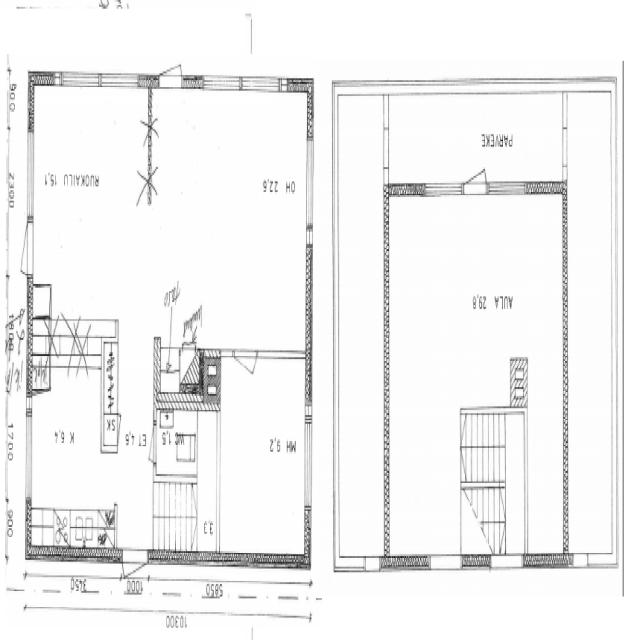door: (461, 162, 490, 200), (232, 345, 260, 383), (157, 58, 184, 94), (20, 219, 36, 279)
window: (302, 128, 318, 245), (301, 404, 315, 516), (256, 338, 306, 368), (23, 397, 35, 512), (120, 548, 151, 592), (24, 125, 37, 226), (239, 68, 282, 98), (56, 65, 100, 93), (422, 176, 464, 204), (202, 69, 242, 98), (100, 66, 140, 95), (487, 176, 528, 202), (428, 550, 463, 578), (489, 552, 526, 576), (570, 549, 592, 573), (362, 552, 383, 576)
zone: (383, 189, 571, 409), (154, 86, 314, 344), (29, 81, 149, 292), (216, 353, 310, 564), (27, 370, 109, 552), (104, 321, 158, 462), (154, 406, 216, 484)
